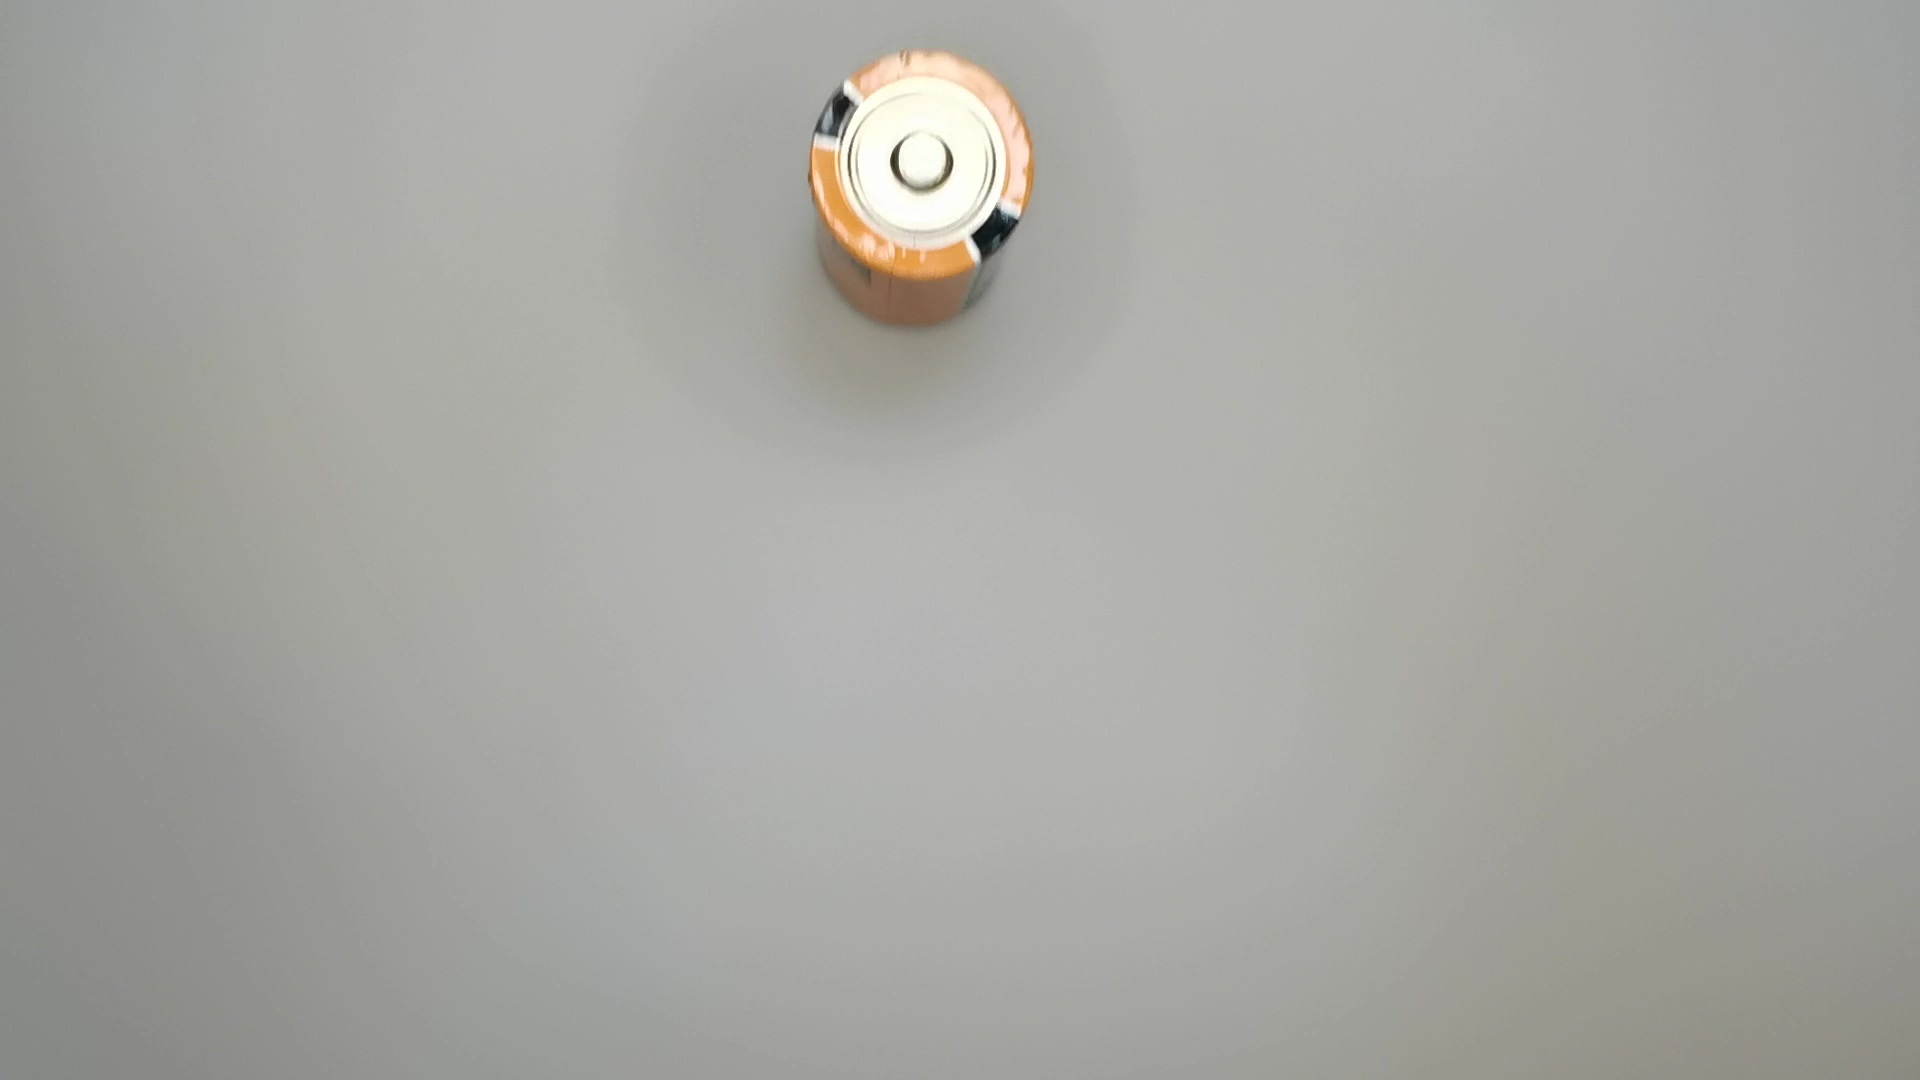battery: (800, 44, 1048, 335)
